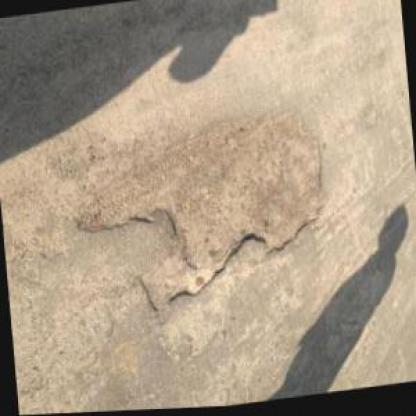pothole: (66, 103, 338, 337)
